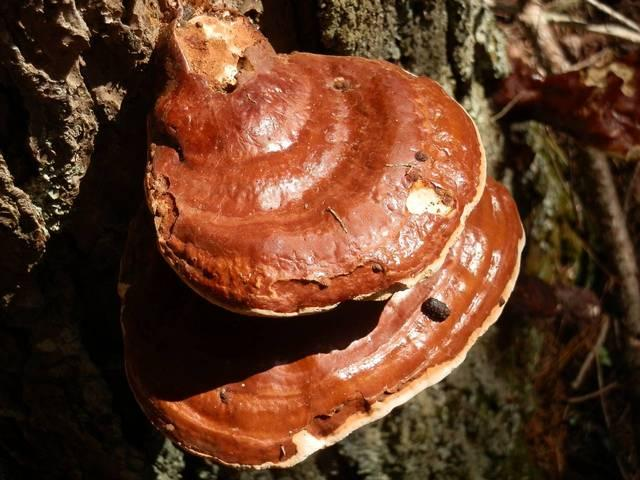poisonous_mushroom: (117, 6, 527, 470)
